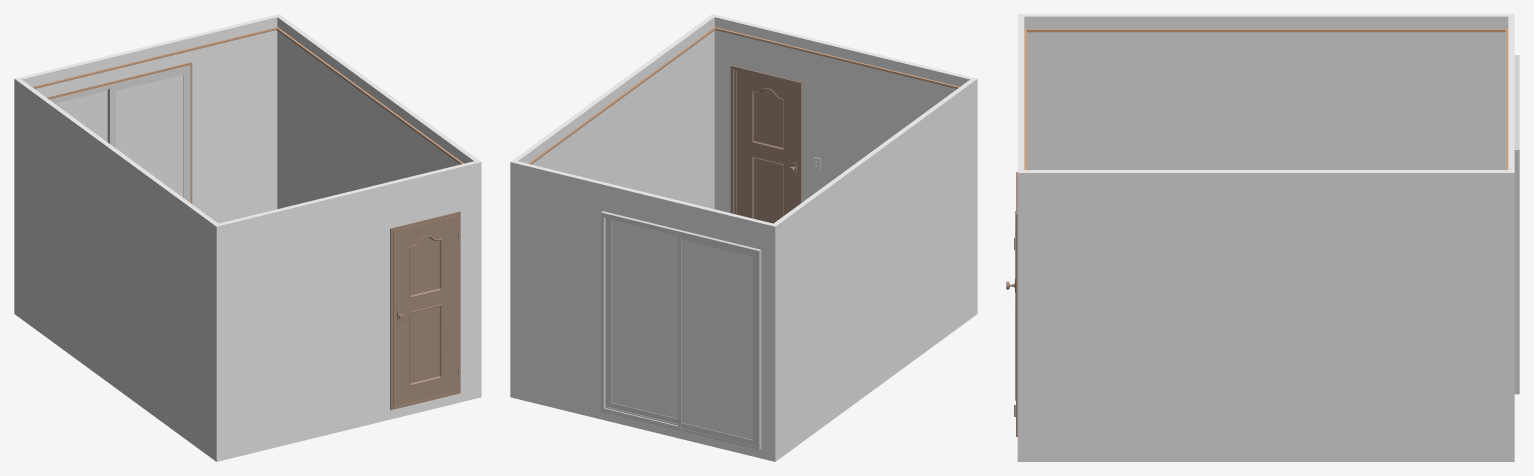
The model's file is 172_部屋6畳view.glb.
The picture shows the model from 3 angles, left to right: view 1: azimuth 30°, elevation 25°; view 2: azimuth 150°, elevation 25°; view 3: azimuth 270°, elevation 25°; orthographic projection. The views are drawn at different scales.
Visible parts, largest first — view 1: 南壁, 西壁, 北壁, 東壁, 扉, 右, 左; view 2: 西壁, 北壁, 南壁, 東壁, 左, 右, 扉; view 3: 東壁, 西壁, 北壁, 南壁.
Boxes of the visible parts, bbox=[...] form: 南壁: bbox=[214, 160, 481, 461]; 西壁: bbox=[17, 79, 217, 459]; 北壁: bbox=[14, 14, 281, 315]; 東壁: bbox=[276, 16, 478, 208]; 扉: bbox=[393, 215, 459, 406]; 右: bbox=[108, 69, 187, 200]; 左: bbox=[53, 89, 107, 142]; 西壁: bbox=[774, 79, 974, 459]; 北壁: bbox=[510, 160, 777, 461]; 南壁: bbox=[710, 14, 977, 315]; 東壁: bbox=[513, 16, 715, 208]; 左: bbox=[677, 235, 756, 446]; 右: bbox=[606, 218, 677, 423]; 扉: bbox=[736, 70, 798, 223]; 東壁: bbox=[1024, 170, 1508, 461]; 西壁: bbox=[1024, 14, 1508, 169]; 北壁: bbox=[1505, 14, 1519, 461]; 南壁: bbox=[1014, 14, 1026, 461].
Size of the model in its own units: 2.83 by 2.4 by 3.86.
